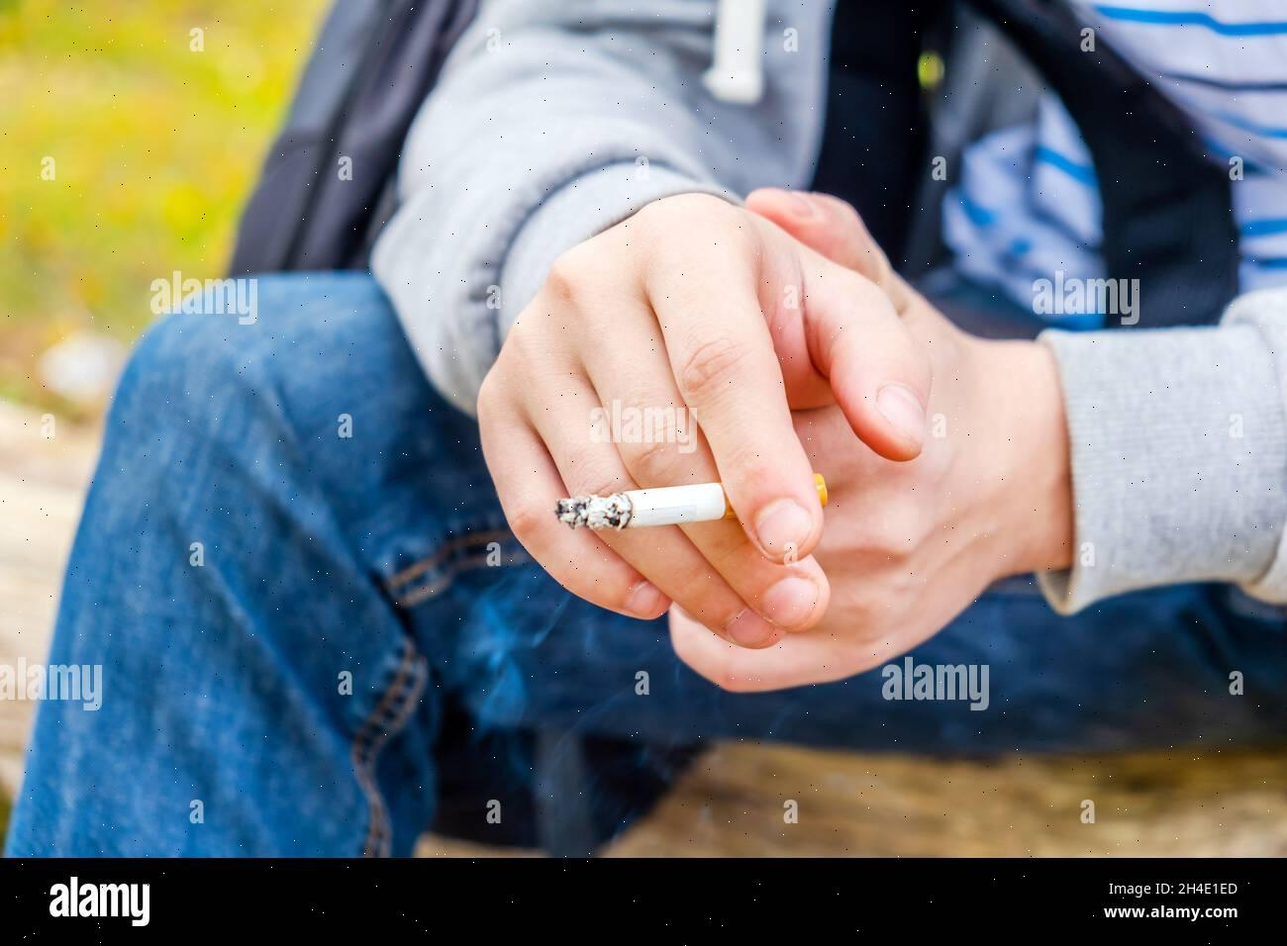cigarette: (555, 482, 735, 529)
